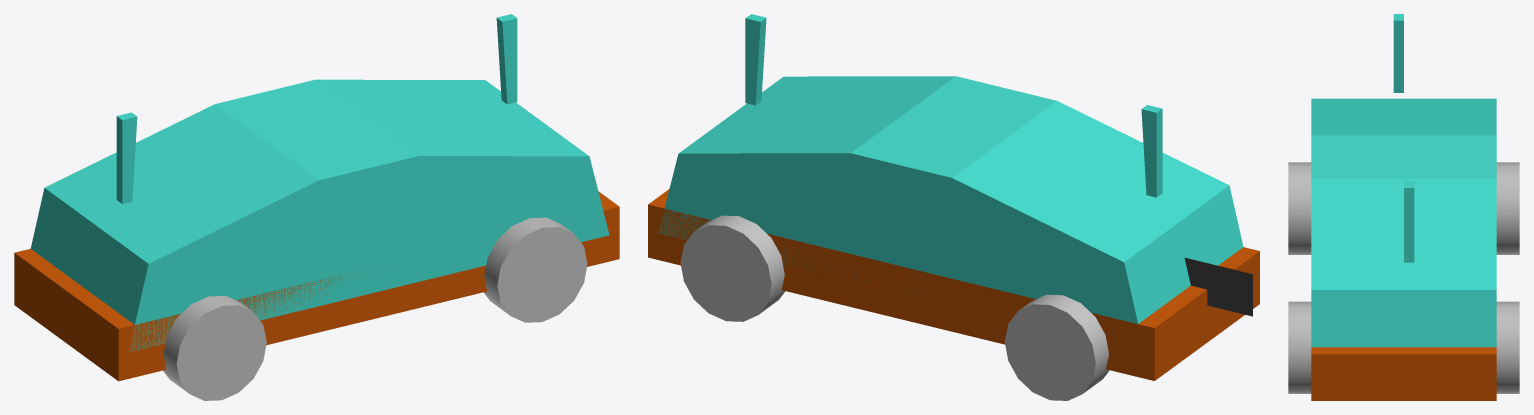
Rendered from muscle_car_1965.glb.
The picture shows the model from 3 angles, left to right: view 1: azimuth 30°, elevation 25°; view 2: azimuth 150°, elevation 25°; view 3: azimuth 270°, elevation 25°; orthographic projection. The views are drawn at different scales.
Parts seen in each view (by area): view 1: body, chassis, wheel (×2), muscle_car_1965; view 2: body, chassis, wheel (×2), muscle_car_1965; view 3: body, chassis, wheel (×4), muscle_car_1965.
Part boxes in pixels (box(x1,y1,x2,y2)): body: box(30, 79, 609, 351); chassis: box(14, 191, 619, 381); wheel (×2): box(163, 217, 587, 400); muscle_car_1965: box(116, 14, 517, 203); body: box(658, 76, 1243, 323); chassis: box(648, 189, 1259, 380); wheel (×2): box(680, 215, 1109, 400); muscle_car_1965: box(745, 14, 1252, 316); body: box(1311, 98, 1496, 347); chassis: box(1311, 347, 1496, 400); wheel (×4): box(1288, 162, 1519, 393); muscle_car_1965: box(1393, 14, 1414, 262).
Bounding box in the file's own units: 5.45 × 2.35 × 2.25.
